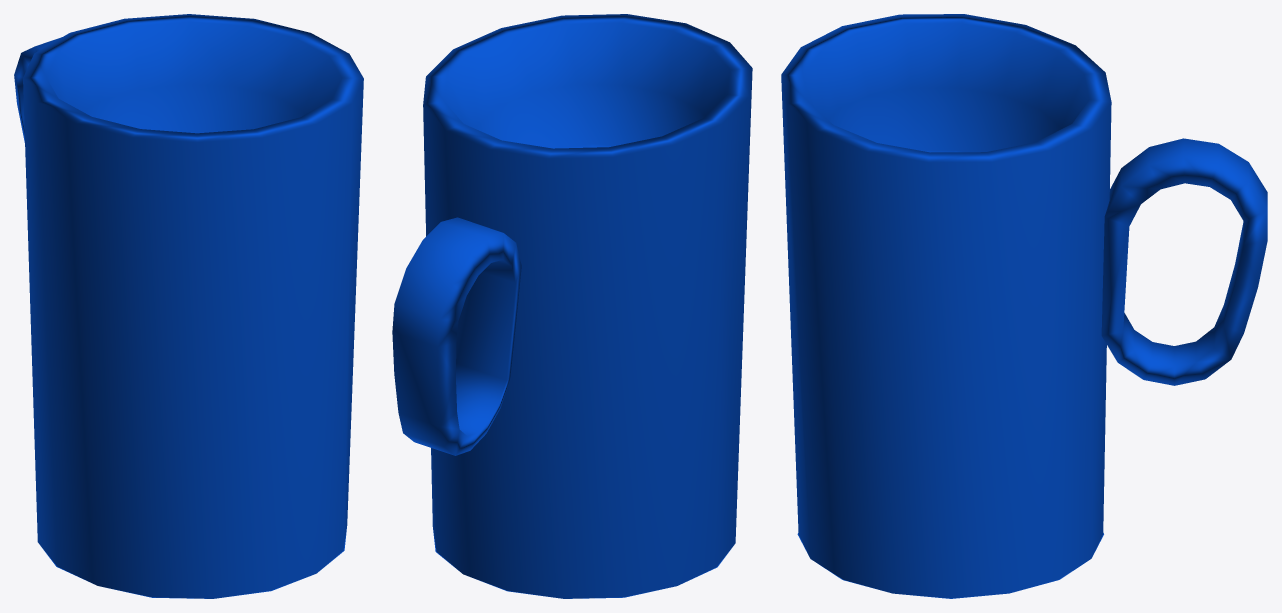
Rendered from Taza09.fbx.
The picture shows the model from 3 angles, left to right: view 1: azimuth 30°, elevation 25°; view 2: azimuth 150°, elevation 25°; view 3: azimuth 270°, elevation 25°; orthographic projection. The views are drawn at different scales.
Visible parts, largest first — view 1: Taza09; view 2: Taza09; view 3: Taza09.
Boxes of the visible parts, x1=… form: Taza09: x1=14, y1=14, x2=363, y2=598; Taza09: x1=392, y1=14, x2=752, y2=598; Taza09: x1=781, y1=14, x2=1267, y2=598.
Size of the model in its own units: 13.33 by 20.16 by 19.64.
